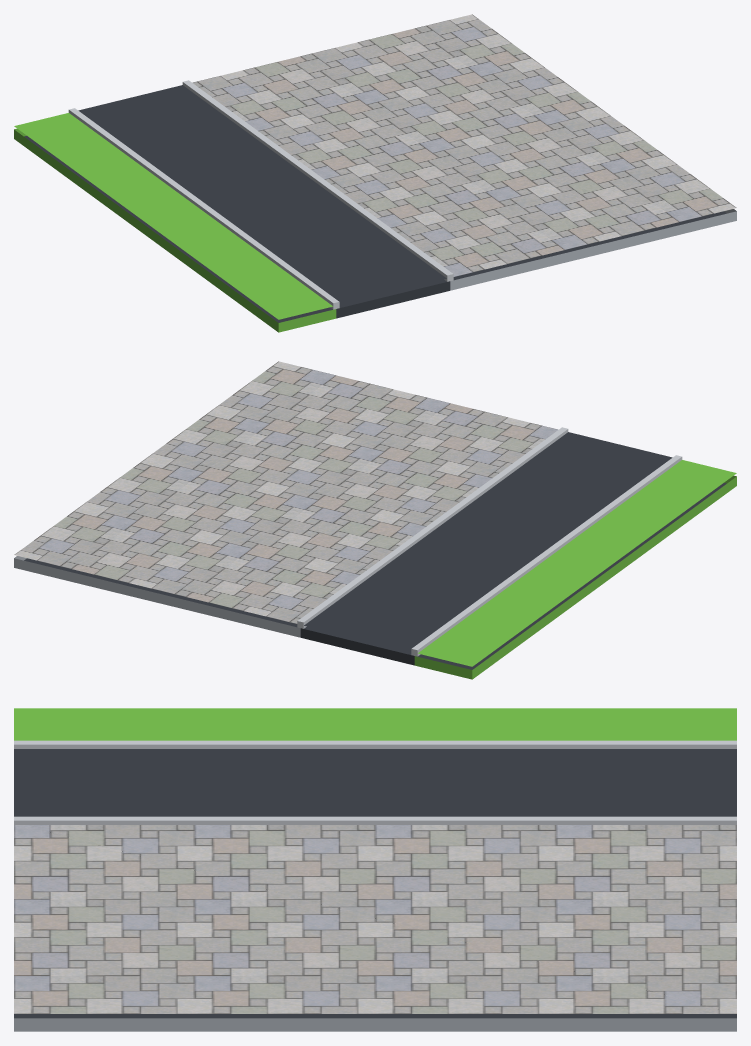
The model's file is set_b_tiles_05_pacote.glb.
3 views of the same model, one above another, from view 1: azimuth 30°, elevation 25°; view 2: azimuth 150°, elevation 25°; view 3: azimuth 270°, elevation 25° (orthographic). The views are drawn at different scales.
Visible parts, largest first — view 1: set_b_tiles_05_pacote; view 2: set_b_tiles_05_pacote; view 3: set_b_tiles_05_pacote.
Boxes of the visible parts, <box> form: set_b_tiles_05_pacote: <box>14,14,736,332</box>; set_b_tiles_05_pacote: <box>14,361,736,679</box>; set_b_tiles_05_pacote: <box>14,708,736,1031</box>.
Size of the model in its own units: 15 by 0.5 by 15.
Materials: 2 (2 with a texture image).
